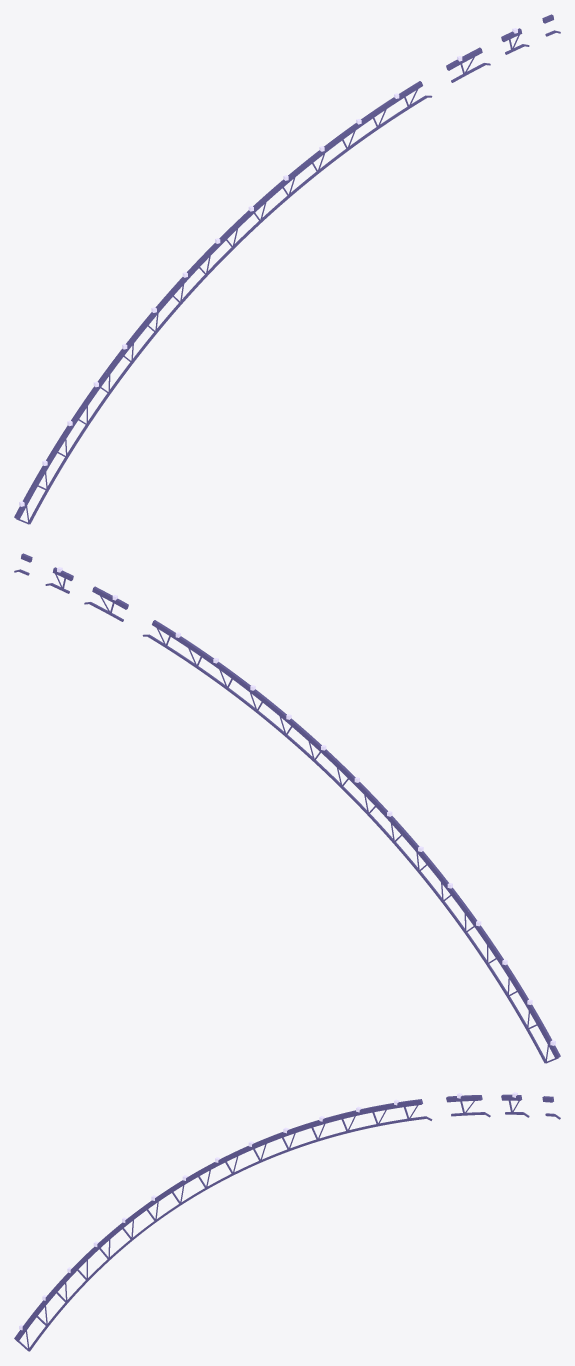
File: long_arc.glb
The picture shows the model from 3 angles, top to bottom: view 1: azimuth 30°, elevation 25°; view 2: azimuth 150°, elevation 25°; view 3: azimuth 330°, elevation 25°; orthographic projection.
Visible parts, largest first — view 1: long_arc; view 2: long_arc; view 3: long_arc.
Part boxes in pixels (x1,y1,x2,y2): long_arc: (14,14,560,524); long_arc: (14,553,560,1063); long_arc: (14,1092,560,1351).
Size of the model in its own units: 6368 by 4255 by 40.
